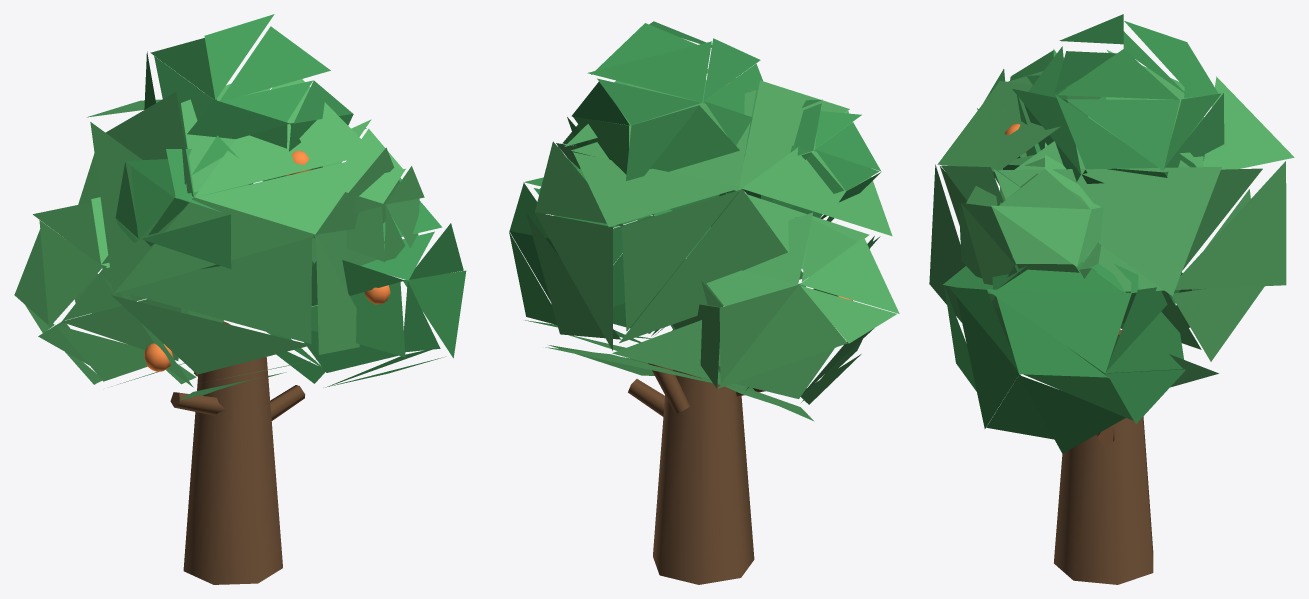
File: treeRound.glb
3 views of the same model, side by side, from view 1: azimuth 30°, elevation 25°; view 2: azimuth 150°, elevation 25°; view 3: azimuth 270°, elevation 25° (orthographic). The views are drawn at different scales.
Bounding box in the file's own units: 2.63 × 3.44 × 2.1.
